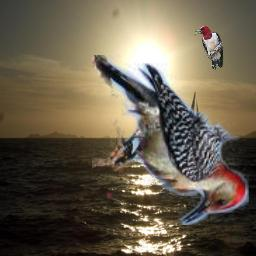Woodpecker: (92, 55, 249, 225), (193, 26, 224, 70)
